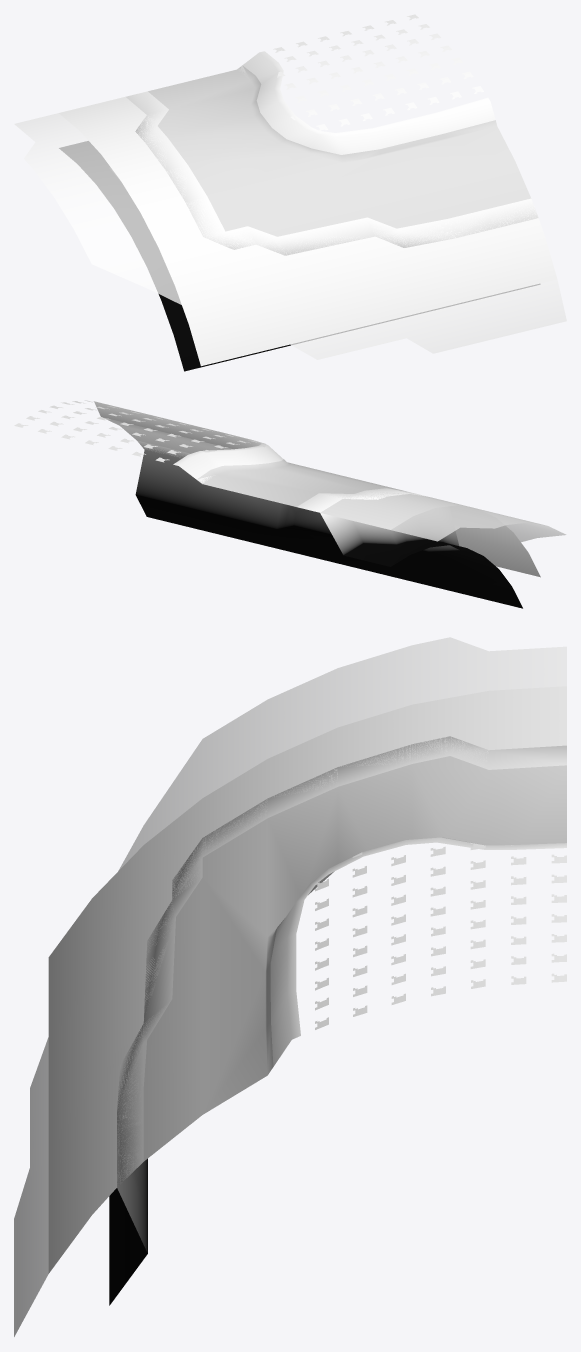
The model's file is grd_Isw_2.dae.
The picture shows the model from 3 angles, top to bottom: view 1: azimuth 30°, elevation 25°; view 2: azimuth 150°, elevation 25°; view 3: azimuth 270°, elevation 25°; orthographic projection. The views are drawn at different scales.
Parts seen in each view (by area): view 1: ocean_4_0, wave_5_0, beach_0_0, beach_1_0, beach_cliff_2_0, grass_3_0; view 2: beach_1_0, beach_0_0, ocean_4_0, wave_5_0, beach_cliff_2_0, grass_3_0; view 3: beach_0_0, wave_5_0, ocean_4_0, beach_1_0, grass_3_0, beach_cliff_2_0.
Boxes of the visible parts, <box> form: ocean_4_0: <box>59,97,557,366</box>; wave_5_0: <box>14,98,566,359</box>; beach_0_0: <box>148,65,531,236</box>; beach_1_0: <box>59,91,539,371</box>; beach_cliff_2_0: <box>237,51,495,154</box>; grass_3_0: <box>273,14,483,130</box>; beach_1_0: <box>135,440,522,608</box>; beach_0_0: <box>103,417,405,506</box>; ocean_4_0: <box>139,442,540,577</box>; wave_5_0: <box>153,445,566,555</box>; beach_cliff_2_0: <box>93,401,283,483</box>; grass_3_0: <box>14,400,265,462</box>; beach_0_0: <box>143,756,566,1161</box>; wave_5_0: <box>14,637,566,1336</box>; ocean_4_0: <box>48,686,566,1273</box>; beach_1_0: <box>109,736,566,1305</box>; grass_3_0: <box>315,843,566,1029</box>; beach_cliff_2_0: <box>270,837,566,1071</box>.
Bounding box in the file's own units: 608 × 268 × 378.
Materials: 6 (1 with a texture image).
